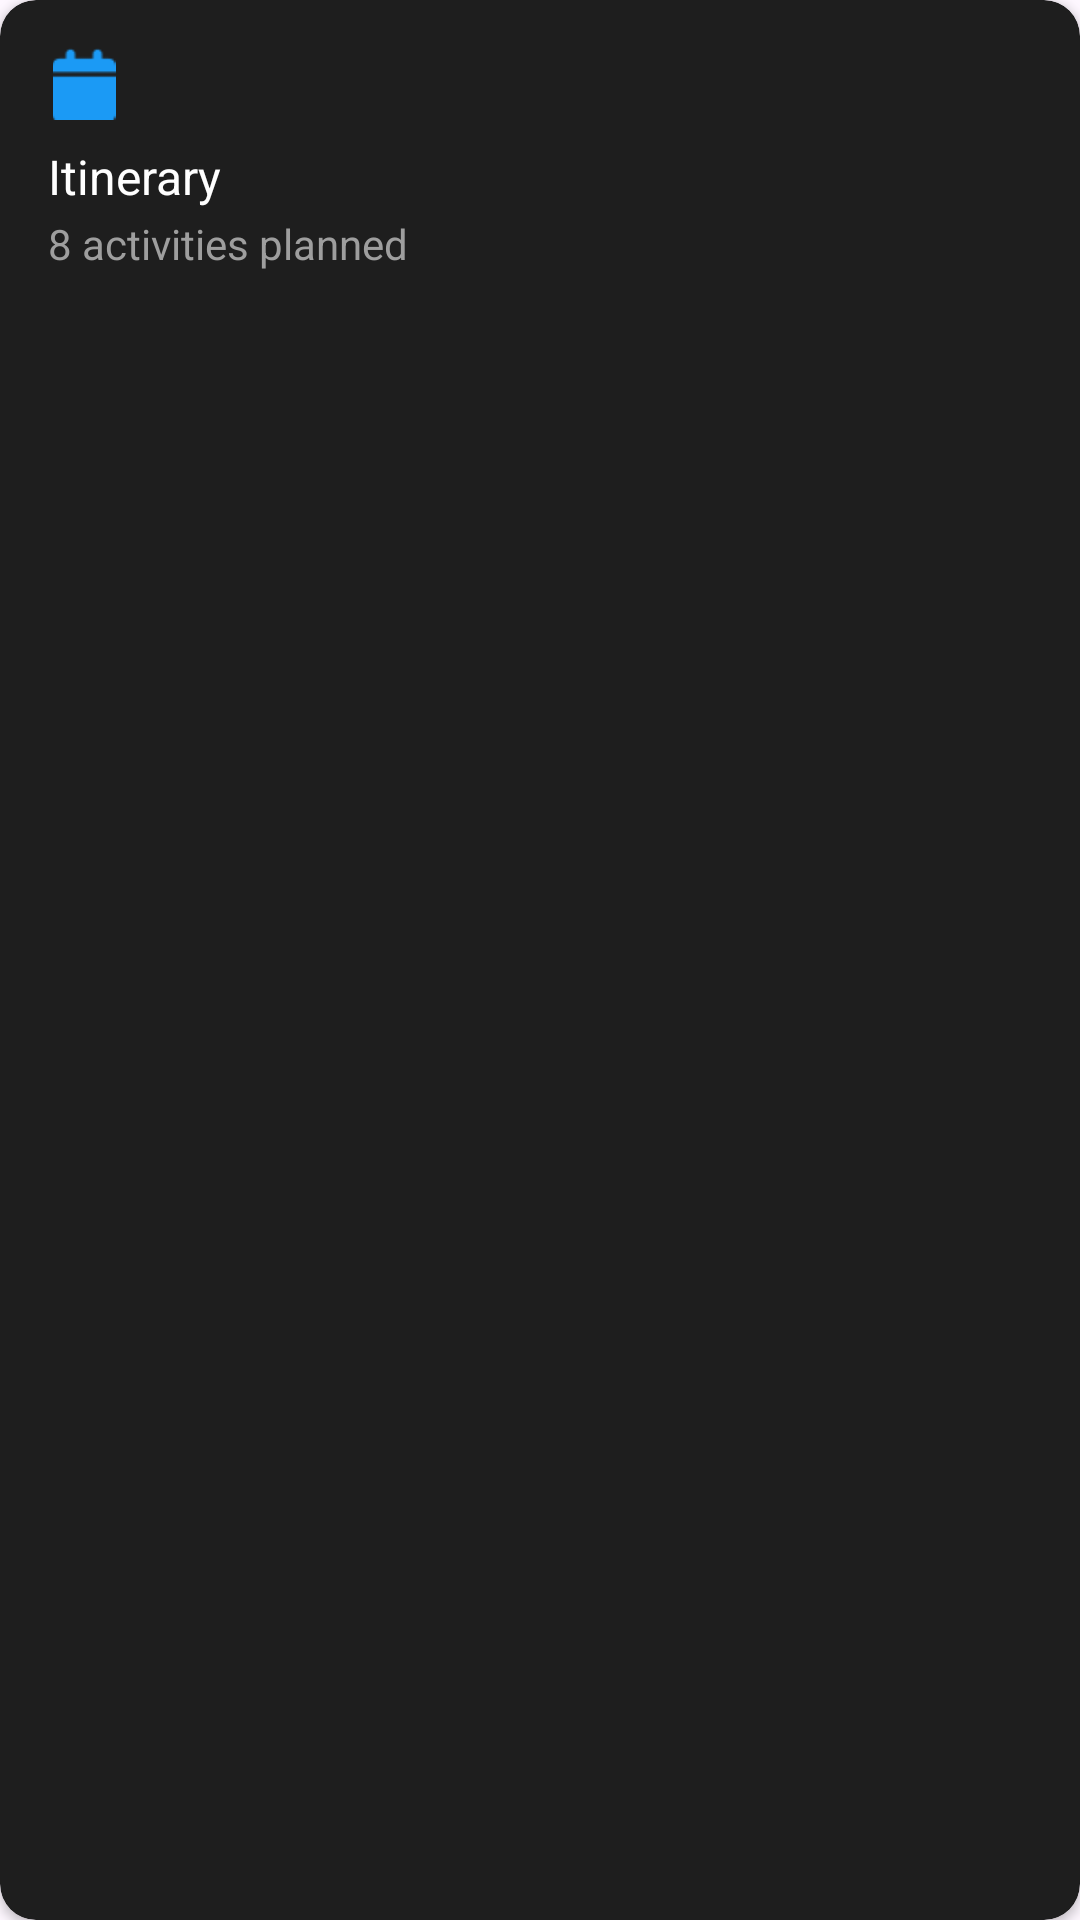

Screen size 1080w x 1920h. Icon name, then its center in pixels as (x=x, y=y):
calendar: (x=84, y=84)
